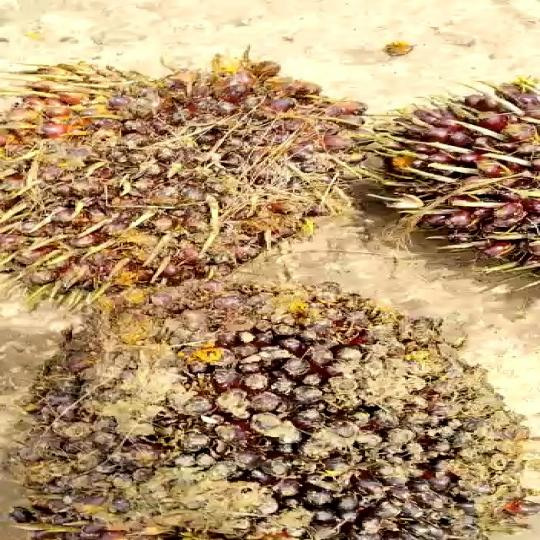kurang masak: (0, 290, 540, 540), (0, 37, 399, 297)
